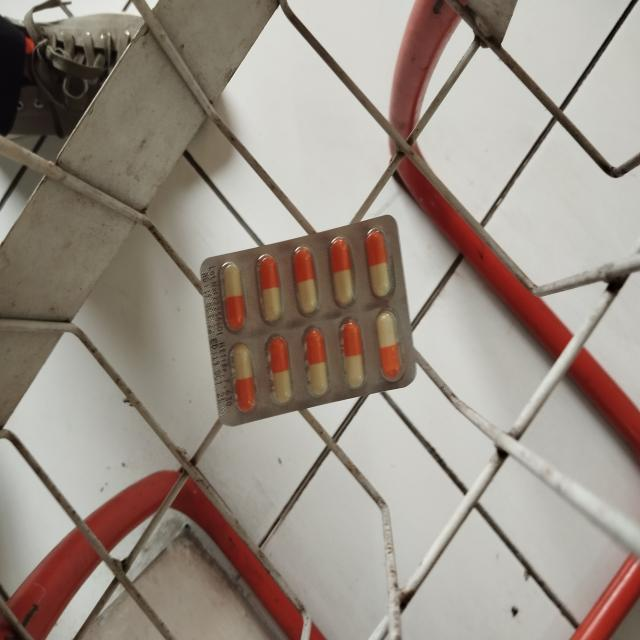B3: (200, 213, 417, 425)
